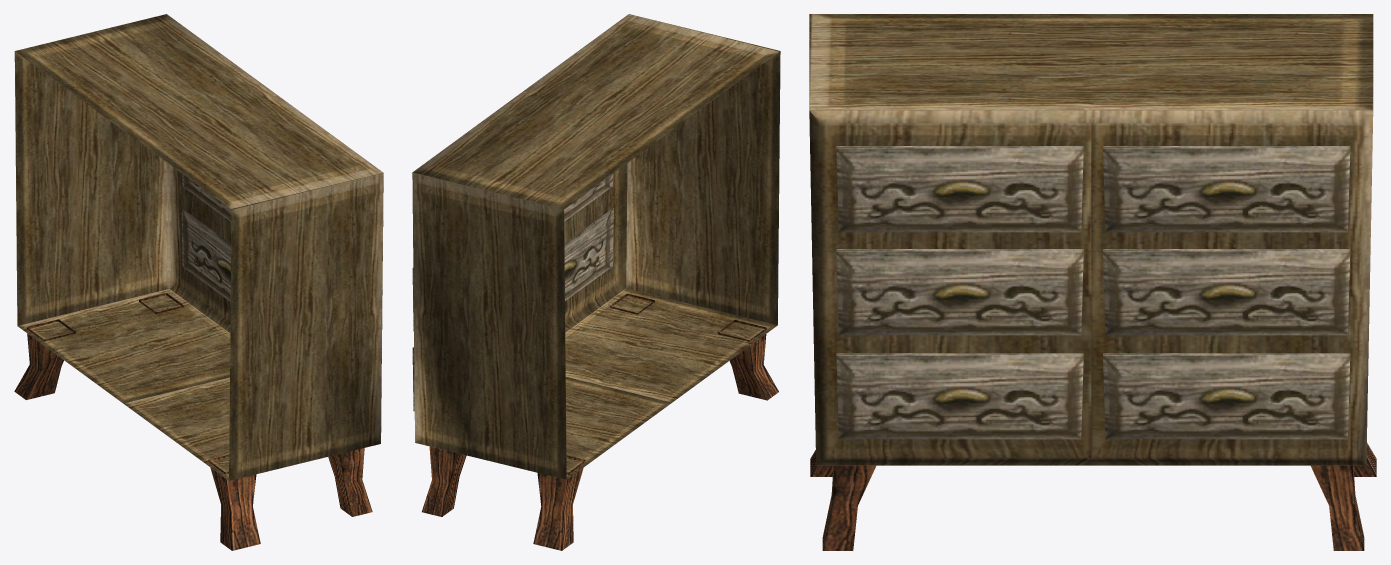
Rendered from INST_LT_LG_DRESSER.fbx.
3 views of the same model, side by side, from view 1: azimuth 30°, elevation 25°; view 2: azimuth 150°, elevation 25°; view 3: azimuth 270°, elevation 25° (orthographic). The views are drawn at different scales.
Parts seen in each view (by area): view 1: INST_LT_LG_DRESSER; view 2: INST_LT_LG_DRESSER; view 3: INST_LT_LG_DRESSER.
Boxes of the visible parts, x1=… form: INST_LT_LG_DRESSER: x1=14, y1=14, x2=383, y2=550; INST_LT_LG_DRESSER: x1=412, y1=14, x2=780, y2=550; INST_LT_LG_DRESSER: x1=809, y1=14, x2=1376, y2=550.
Size of the model in its own units: 5281 by 10453 by 12100.
3 materials, 3 textured.
